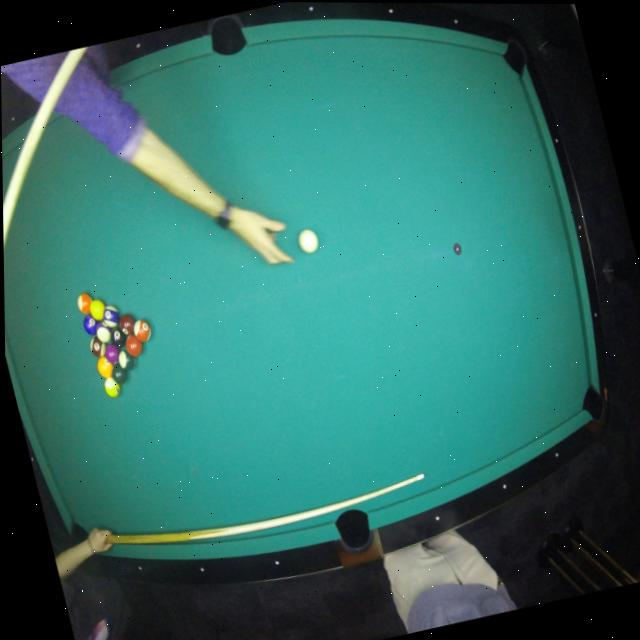cue ball: (293, 226, 322, 258)
other: (131, 317, 153, 345), (122, 331, 144, 359), (86, 297, 107, 323), (100, 303, 121, 329), (94, 354, 115, 380), (75, 290, 95, 316), (116, 312, 137, 336), (107, 325, 128, 349), (87, 335, 108, 359), (116, 347, 137, 371), (102, 341, 121, 367), (108, 362, 129, 385), (102, 374, 122, 398), (94, 319, 113, 344), (81, 314, 101, 337)
